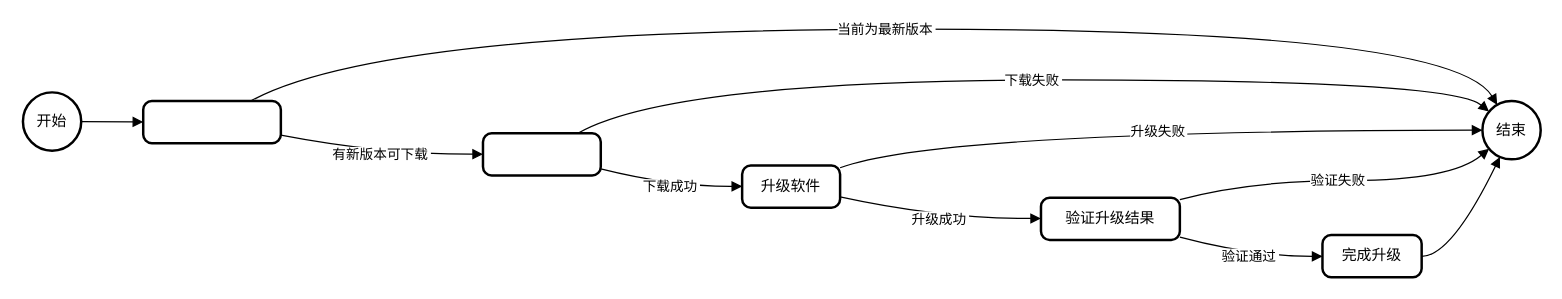
This 1562x299 diagram has some shape labels left out. Here are the shapes that lost their labels. From the top down, the box of each, then its label:
(141, 99, 281, 144): 检查软件版本
(481, 131, 601, 176): 下载新版本
